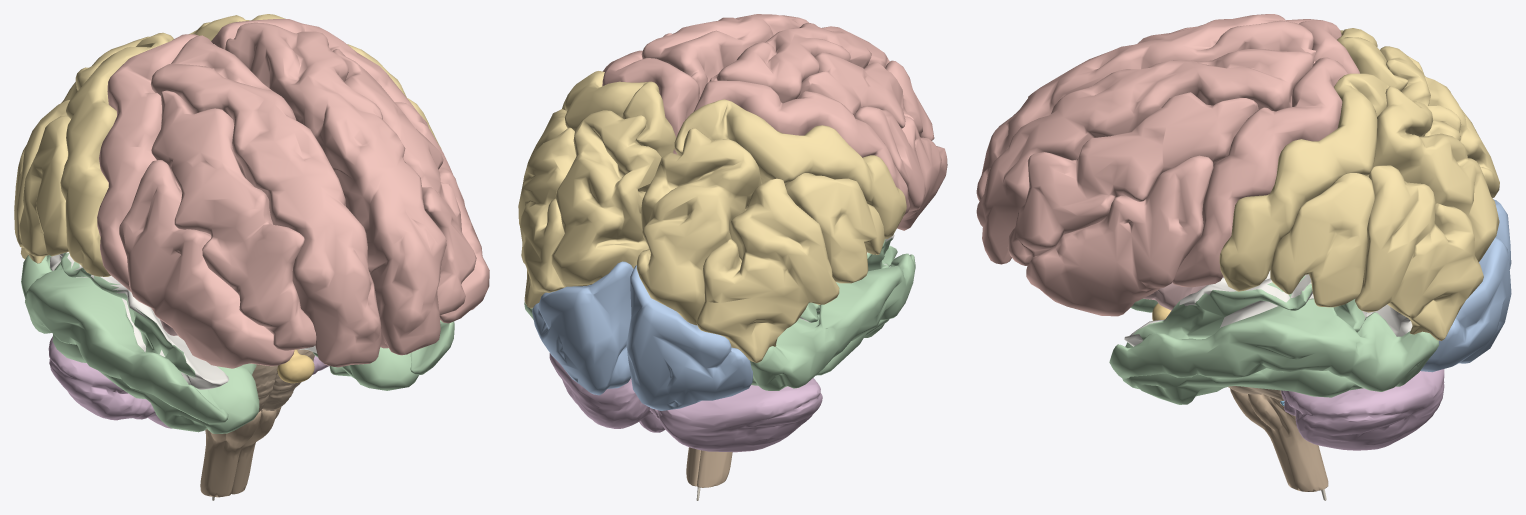
The model's file is brain.glb.
3 renders of one model, left to right at view 1: azimuth 30°, elevation 25°; view 2: azimuth 150°, elevation 25°; view 3: azimuth 270°, elevation 25°, orthographic. The views are drawn at different scales.
Visible parts, largest first — view 1: frontal_lobe, temporal_lobe, parietal_lobe, cerebellum, medulla, white_matter, pons, pituitary; view 2: parietal_lobe, frontal_lobe, occipital_lobe, cerebellum, temporal_lobe, medulla; view 3: frontal_lobe, parietal_lobe, temporal_lobe, cerebellum, occipital_lobe, medulla, white_matter, insula.
Boxes of the visible parts, x1=… form: frontal_lobe: x1=97, y1=19, x2=489, y2=368; temporal_lobe: x1=21, y1=252, x2=454, y2=433; parietal_lobe: x1=14, y1=14, x2=441, y2=276; cerebellum: x1=48, y1=336, x2=329, y2=428; medulla: x1=200, y1=407, x2=281, y2=497; white_matter: x1=50, y1=252, x2=317, y2=389; pons: x1=252, y1=349, x2=314, y2=411; pituitary: x1=277, y1=349, x2=314, y2=383; parietal_lobe: x1=518, y1=71, x2=906, y2=362; frontal_lobe: x1=602, y1=14, x2=947, y2=230; occipital_lobe: x1=532, y1=261, x2=752, y2=410; cerebellum: x1=549, y1=353, x2=822, y2=452; temporal_lobe: x1=524, y1=238, x2=915, y2=390; medulla: x1=686, y1=447, x2=732, y2=487; frontal_lobe: x1=976, y1=14, x2=1359, y2=316; parietal_lobe: x1=1219, y1=28, x2=1499, y2=340; temporal_lobe: x1=1109, y1=276, x2=1438, y2=404; cerebellum: x1=1281, y1=369, x2=1444, y2=450; occipital_lobe: x1=1420, y1=199, x2=1511, y2=372; medulla: x1=1230, y1=388, x2=1328, y2=491; white_matter: x1=1124, y1=270, x2=1412, y2=346; insula: x1=1143, y1=276, x2=1223, y2=310.
Bounding box in the file's own units: 0.1388 × 0.1719 × 0.18.
